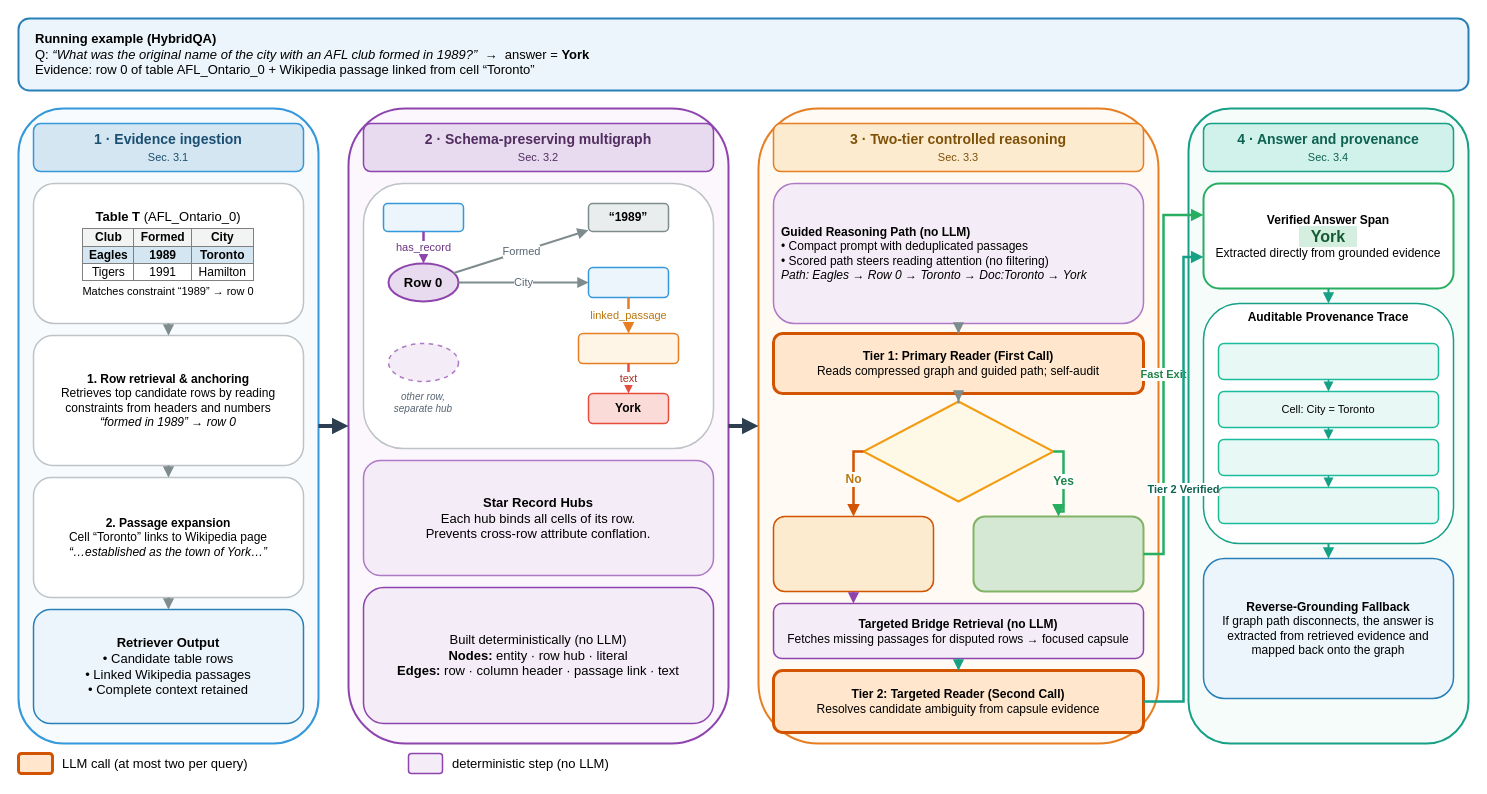
Some shapes in this 1487 by 794 pixel diagram are drawn without their labels. The shapes that lost their labels are listed below. From the top down, each one's centre as x and y in pixels, then its label:
pixel 423 217: Eagles
pixel 628 282: Toronto
pixel 423 362: Row 1
pixel 628 348: Doc:Toronto
pixel 1328 361: Table AFL_Ontario_0, Row 0
pixel 958 451: Clear evidence & unbroken path?
pixel 1328 457: Link: /wiki/Toronto
pixel 1328 505: Text: “…town of York…”
pixel 853 553: No : collision or missing link Diagnostic handoff to targeted retriever
pixel 1058 553: Yes : fast exit Verified answer span 1 LLM call in total
